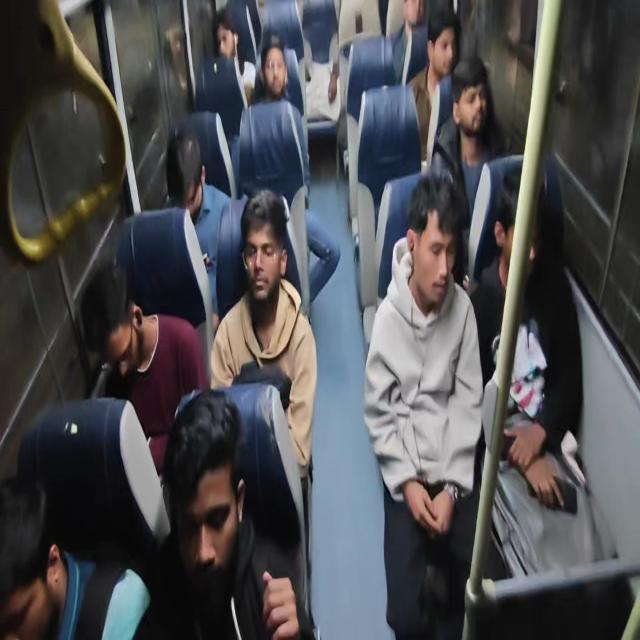person: (159, 356, 247, 570), (234, 206, 324, 371), (480, 163, 559, 327), (0, 447, 61, 640), (391, 202, 466, 342), (80, 260, 172, 369), (157, 135, 223, 239), (438, 52, 492, 166), (299, 55, 364, 148), (216, 12, 264, 76), (434, 22, 466, 75), (404, 0, 434, 50), (268, 39, 294, 95)
